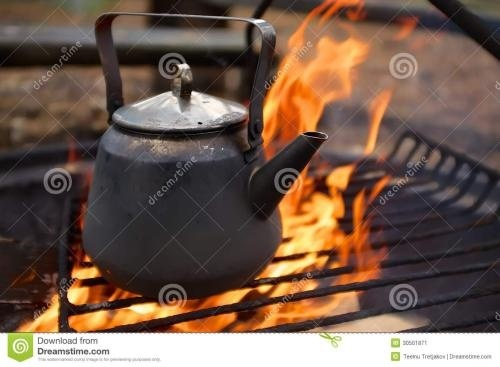fire: (256, 1, 383, 156)
